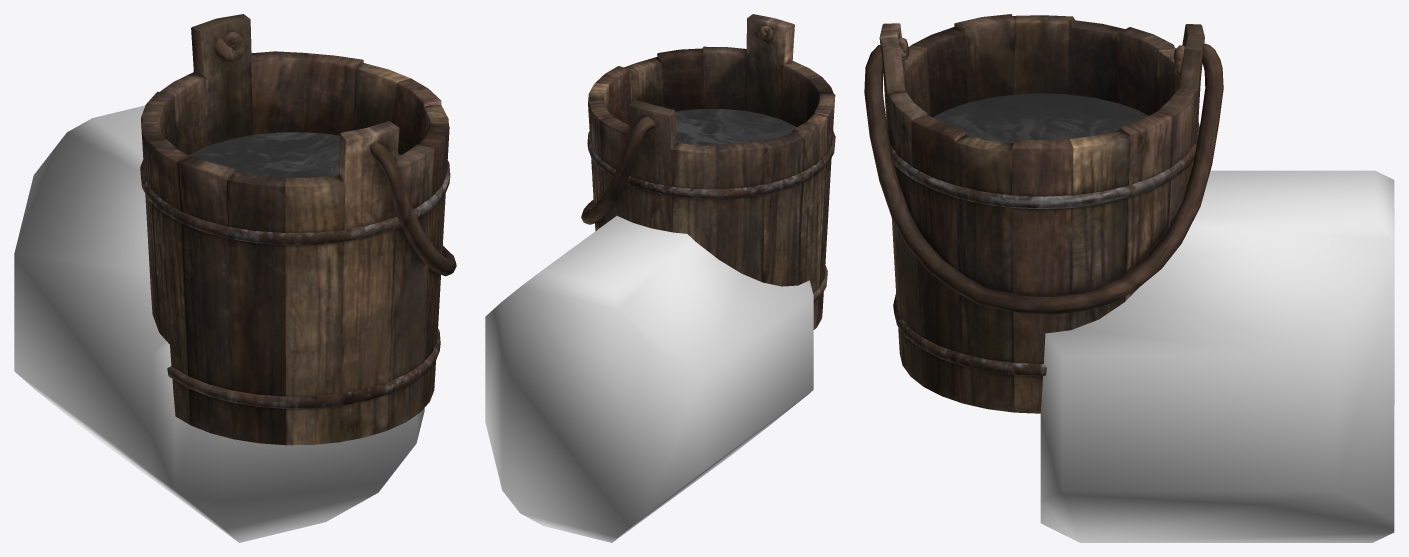
File: SM_Basket.fbx
3 views of the same model, side by side, from view 1: azimuth 30°, elevation 25°; view 2: azimuth 150°, elevation 25°; view 3: azimuth 270°, elevation 25° (orthographic). The views are drawn at different scales.
Visible parts, largest first — view 1: SM_Basket, SM_Basket_ConvexHulls; view 2: SM_Basket_ConvexHulls, SM_Basket; view 3: SM_Basket_ConvexHulls, SM_Basket.
Part boxes in pixels (box(x1,y1,x2,y2)): SM_Basket: box(140, 14, 456, 445); SM_Basket_ConvexHulls: box(14, 105, 424, 542); SM_Basket_ConvexHulls: box(485, 216, 813, 542); SM_Basket: box(581, 14, 835, 329); SM_Basket_ConvexHulls: box(1040, 170, 1394, 542); SM_Basket: box(864, 14, 1223, 413).
Size of the model in its own units: 0.3158 by 0.5185 by 0.5153.
